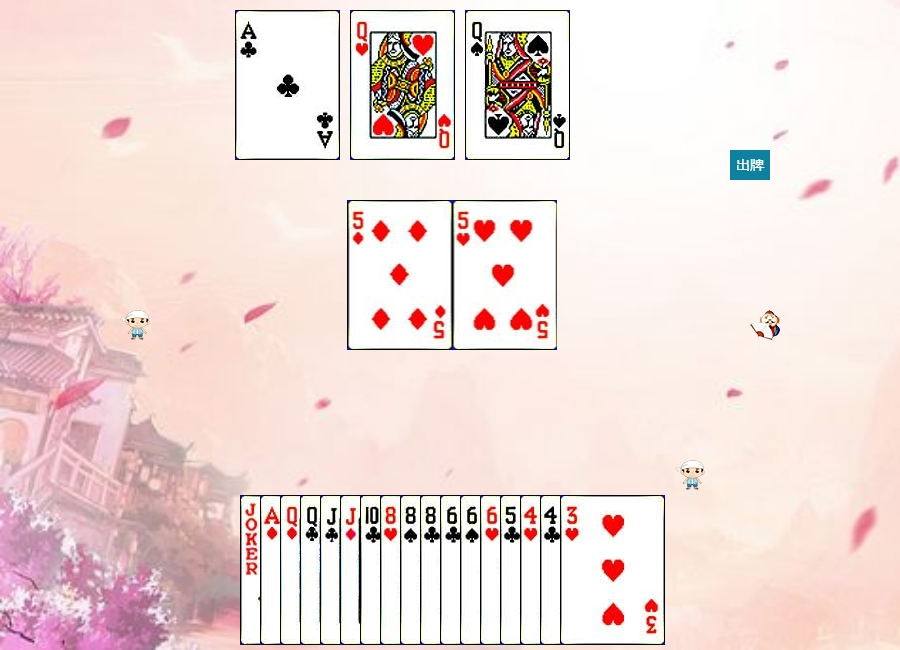10~2: (360, 495, 465, 645)
11~1: (340, 495, 445, 645)
11~2: (320, 495, 425, 645)
12~1: (280, 495, 385, 645)
12~2: (300, 495, 405, 645)
12~3: (350, 10, 455, 160)
12~4: (465, 10, 570, 160)
14~1: (260, 495, 365, 645)
14~2: (235, 10, 340, 160)
18~4: (240, 495, 345, 645)
3~3: (560, 495, 665, 645)
4~2: (540, 495, 645, 645)
4~3: (520, 495, 625, 645)
5~1: (348, 200, 453, 350)
5~2: (500, 495, 605, 645)
5~3: (453, 200, 558, 350)
6~2: (440, 495, 545, 645)
6~3: (480, 495, 585, 645)
6~4: (460, 495, 565, 645)
8~2: (420, 495, 525, 645)
8~3: (380, 495, 485, 645)
8~4: (400, 495, 505, 645)
